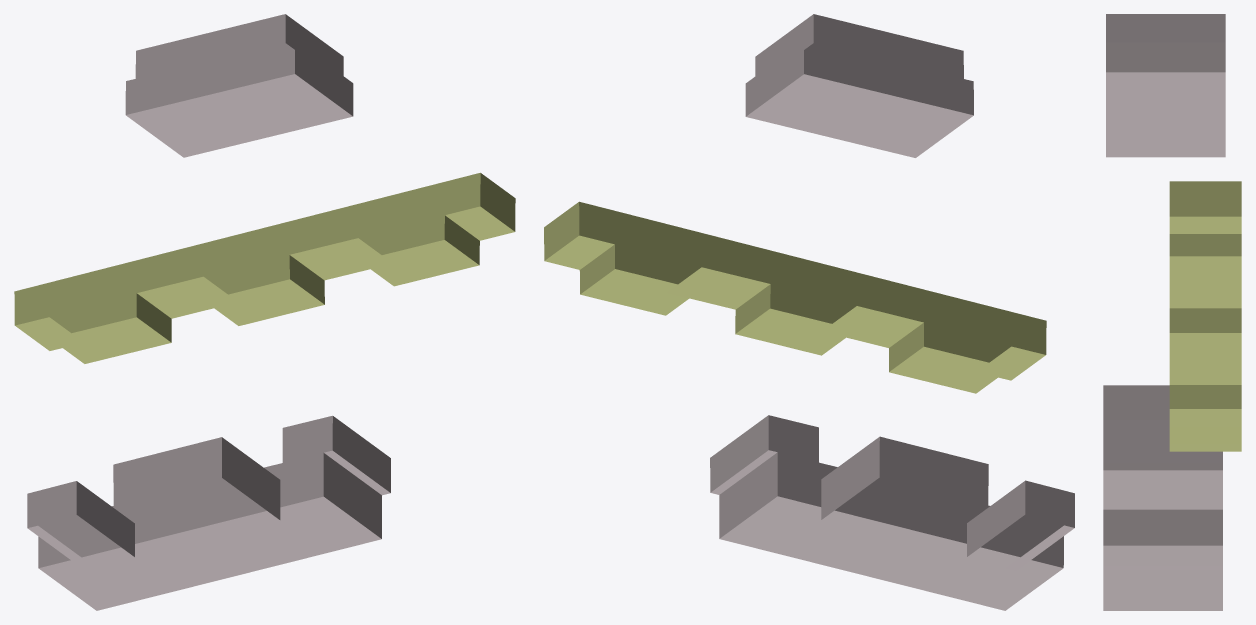
3 views of the same model, side by side, from view 1: azimuth 30°, elevation 25°; view 2: azimuth 150°, elevation 25°; view 3: azimuth 270°, elevation 25° (orthographic). The views are drawn at different scales.
Visible parts, largest first — view 1: 0_3_1_3_0_3; view 2: 0_3_1_3_0_3; view 3: 0_3_1_3_0_3.
Part boxes in pixels (bbox=[...]): 0_3_1_3_0_3: bbox=[14, 14, 515, 610]; 0_3_1_3_0_3: bbox=[544, 14, 1074, 610]; 0_3_1_3_0_3: bbox=[1103, 14, 1241, 610].
Bounding box in the file's own units: 69.26 × 70 × 17.3.
